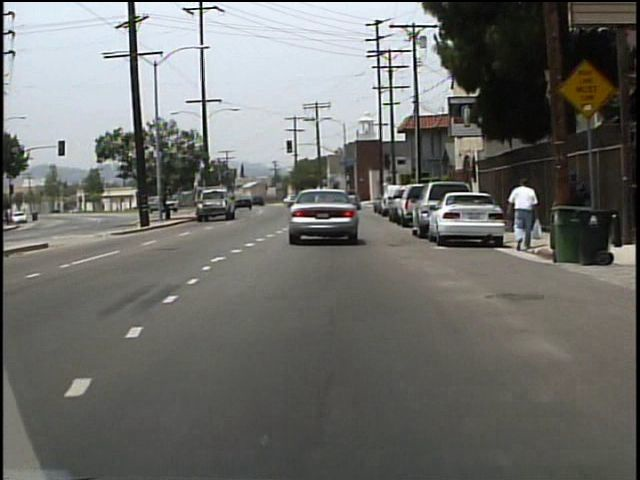person: (506, 177, 540, 255)
